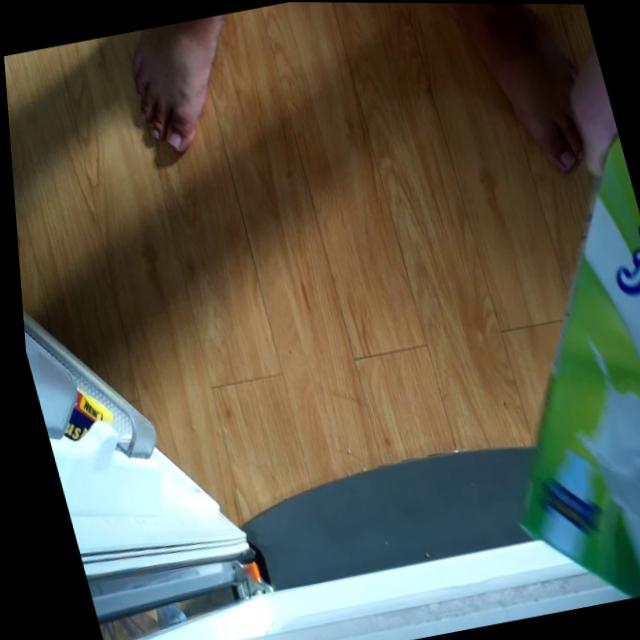milk: (414, 111, 640, 615)
